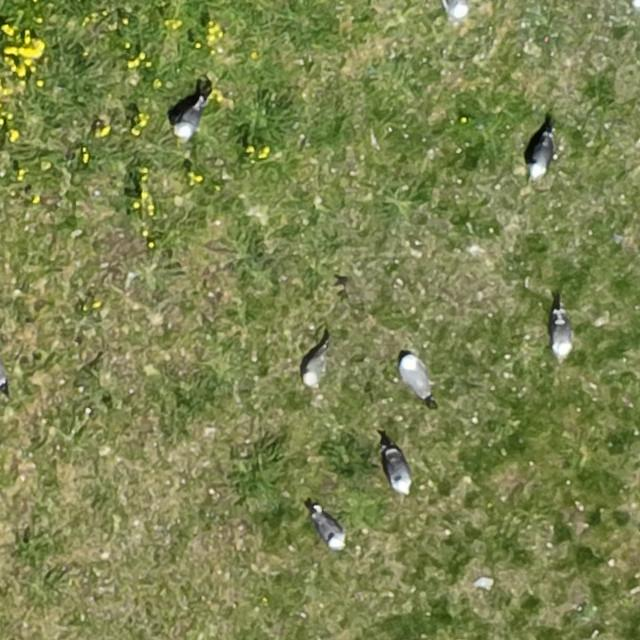umineko: (401, 357, 429, 398), (387, 451, 412, 493), (317, 512, 343, 547), (178, 104, 202, 138), (551, 317, 571, 357), (533, 139, 552, 176), (304, 351, 325, 384)
